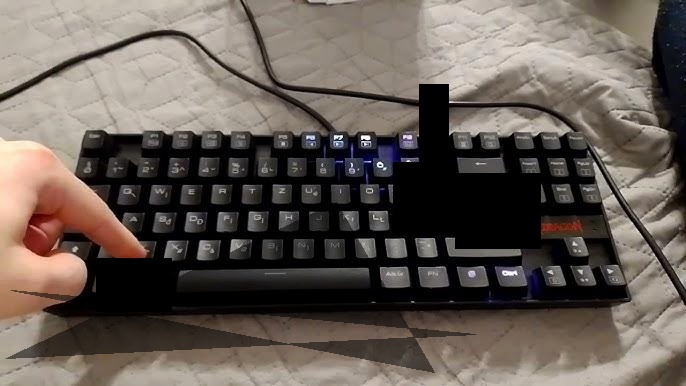-: (128, 216, 139, 224)
0: (376, 162, 388, 171)
0-1-2-3-4-5-6-7-8-9-A-B-C-D-E-F: (420, 241, 433, 252), (358, 241, 372, 250), (391, 242, 402, 251), (431, 213, 441, 222), (83, 162, 92, 172), (459, 214, 470, 222), (402, 214, 414, 221), (450, 187, 460, 195), (405, 160, 414, 168), (421, 187, 430, 195), (432, 160, 441, 167)
1: (111, 165, 125, 174)
2: (141, 166, 155, 174)
3: (171, 166, 187, 174)
4: (202, 166, 216, 174)
5: (231, 167, 245, 174)
6: (261, 167, 274, 174)
7: (291, 166, 302, 173)
8: (319, 167, 328, 174)
9: (349, 166, 356, 175)
A: (384, 270, 405, 278), (144, 274, 159, 281)
ALT: (267, 242, 277, 251)
B: (475, 161, 488, 166)
BACKSPACE: (201, 243, 213, 252)
CAPSLK: (502, 269, 519, 277)
CTRL: (188, 215, 200, 224)
D: (527, 185, 541, 193)
DEL: (577, 268, 586, 276)
DOWN: (186, 187, 196, 196)
E: (555, 185, 570, 192)
END: (488, 201, 503, 208)
ENTER: (87, 132, 100, 139)
ESC: (222, 215, 233, 225)
F: (148, 133, 159, 140)
F1: (429, 134, 442, 140)
F10: (457, 134, 468, 141)
F11: (483, 133, 497, 140)
F12: (177, 133, 189, 139)
F2: (206, 133, 218, 139)
F3: (234, 133, 247, 141)
F4: (277, 134, 288, 140)
F5: (305, 134, 316, 140)
F6: (332, 134, 344, 141)
F7: (360, 134, 372, 141)
F8: (402, 134, 413, 141)
F9: (426, 270, 439, 277)
FN: (253, 214, 263, 222)
G: (284, 213, 294, 221)
H: (550, 160, 564, 167)
HOME: (337, 187, 345, 195)
I: (522, 160, 537, 169)
INS: (313, 214, 325, 222)
J: (342, 214, 353, 222)
K: (37, 131, 632, 306)
KEYBOARD: (372, 214, 386, 223)
L: (547, 269, 556, 275)
LEFT: (329, 241, 341, 249)
M: (467, 270, 476, 278)
MENU: (297, 241, 309, 250)
N: (365, 186, 375, 195)
O: (393, 186, 403, 194)
P: (568, 134, 585, 141)
PAUSE: (583, 185, 598, 193)
PGDN: (578, 159, 591, 168)
PGUP: (516, 133, 530, 140)
PRTSC: (122, 187, 136, 196)
Q: (217, 187, 227, 195)
R: (606, 268, 615, 275)
RIGHT: (157, 215, 168, 224)
S: (543, 134, 558, 141)
SCRLK: (477, 240, 489, 248), (71, 245, 79, 253)
SHIFT: (180, 270, 368, 288)
SPACE: (247, 188, 257, 197)
T: (96, 185, 109, 196)
TAB: (303, 186, 318, 196)
U: (571, 240, 579, 247)
UP: (235, 241, 245, 250)
V: (153, 187, 168, 196)
W: (102, 273, 120, 284)
WIN: (169, 243, 181, 252)
X: (277, 187, 286, 195)
Y: (141, 243, 150, 252)
